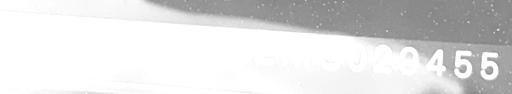letter: (48, 16, 84, 47), (282, 35, 312, 67), (251, 32, 277, 64), (317, 37, 341, 69), (20, 14, 44, 45), (424, 46, 446, 78), (114, 23, 138, 52), (142, 25, 164, 55), (170, 26, 192, 56), (198, 29, 220, 59), (227, 31, 247, 63), (452, 47, 472, 79), (478, 50, 500, 79), (372, 41, 392, 72), (347, 41, 367, 71), (398, 44, 418, 74), (90, 22, 110, 50)
